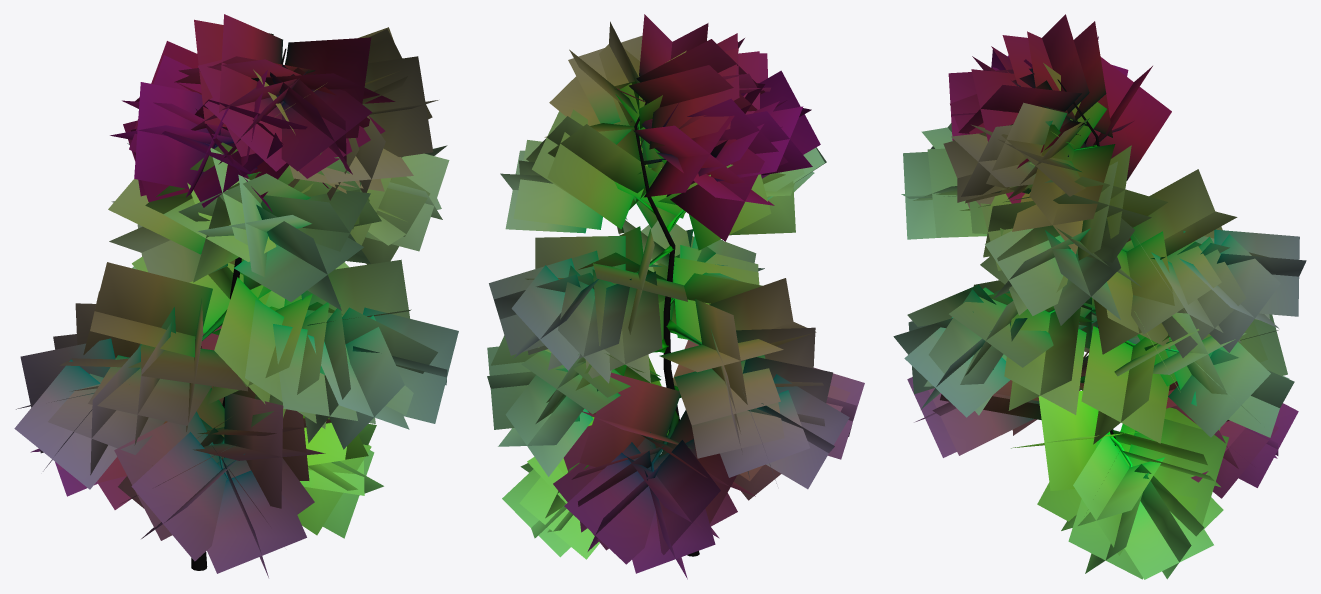
File: URP_P14_Tree_5_LOD_2.fbx
3 renders of one model, left to right at view 1: azimuth 30°, elevation 25°; view 2: azimuth 150°, elevation 25°; view 3: azimuth 270°, elevation 25°, orthographic. The views are drawn at different scales.
Parts seen in each view (by area): view 1: Tree_5_LOD_2; view 2: Tree_5_LOD_2; view 3: Tree_5_LOD_2.
Part boxes in pixels (<box>): Tree_5_LOD_2: <box>14,14,458,577</box>; Tree_5_LOD_2: <box>487,14,864,579</box>; Tree_5_LOD_2: <box>893,14,1306,579</box>.
Bounding box in the file's own units: 409 × 569 × 414.
